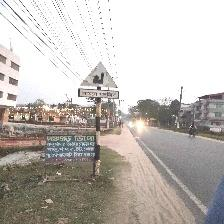Mosque in front: (79, 62, 119, 98)
